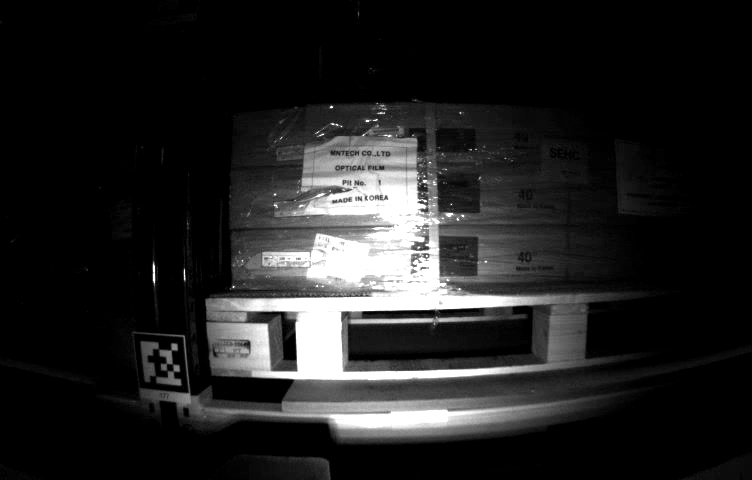True Barcode: (313, 230, 367, 291)
